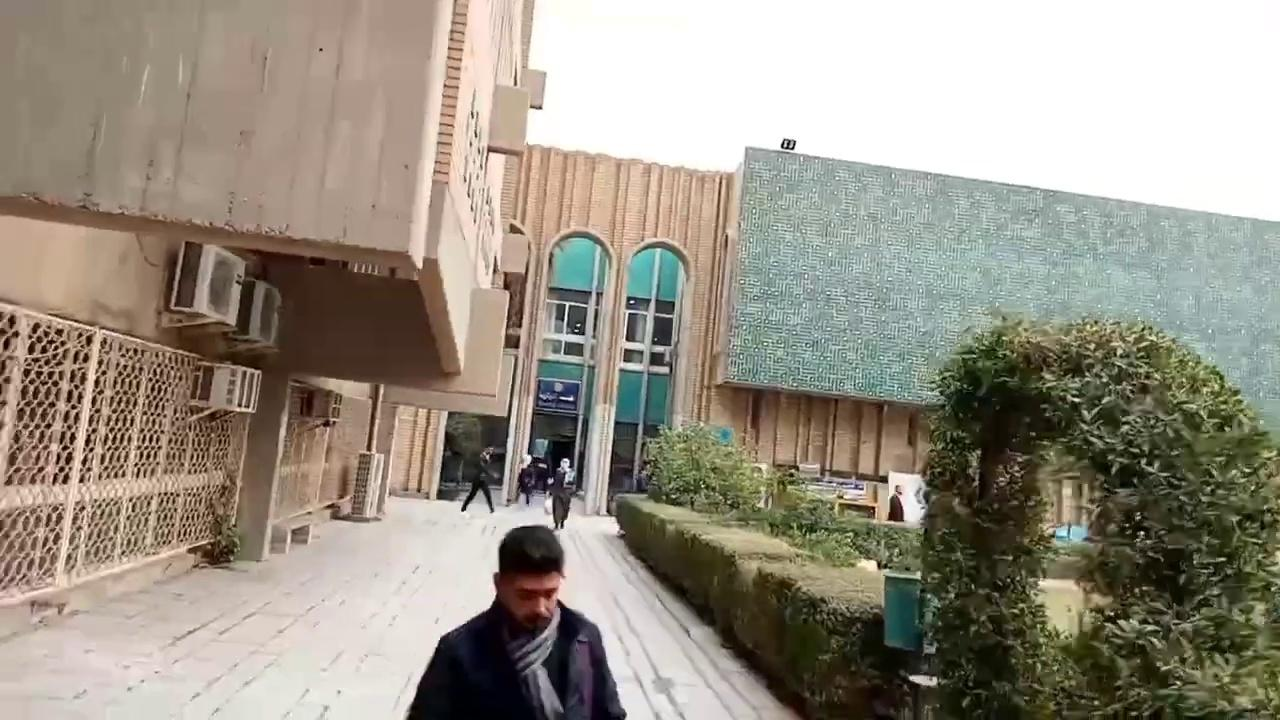person: (404, 524, 627, 719), (460, 447, 496, 513), (547, 457, 575, 529), (515, 454, 534, 505), (887, 483, 905, 521)
tree: (913, 309, 1278, 718), (613, 482, 1127, 718), (639, 419, 765, 515)
